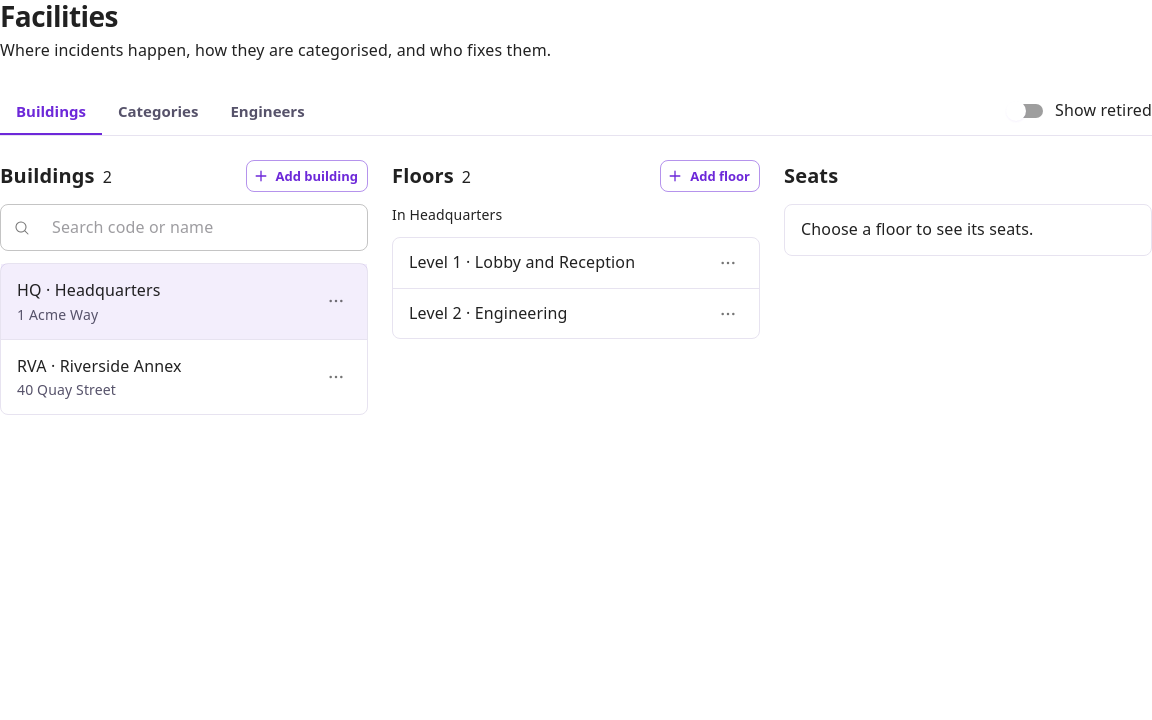
Test: FacilitiesPage › adds a floor to the selected building
Check: the text "Level 2 · Engineering" is shown, box [409,301,568,326]
Click the button "Add floor" at point(710, 176), box [660,160,760,192]
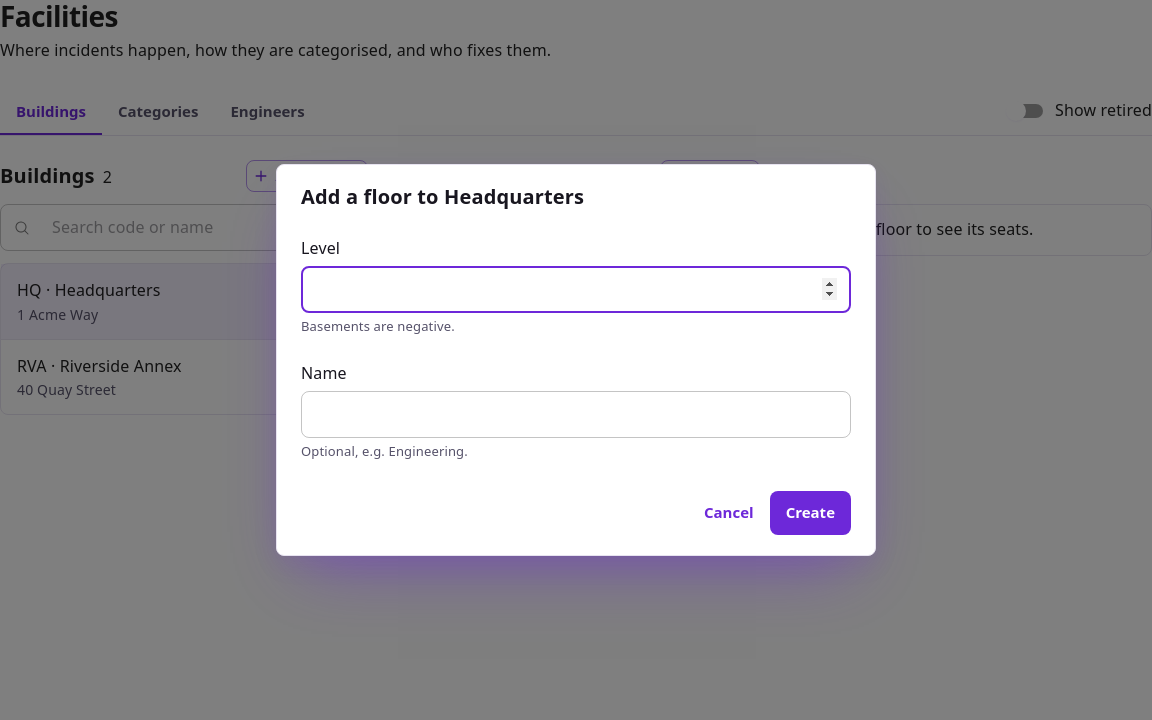
Check: the heading "Add a floor to Headquarters" is shown, box [301,183,584,210]
Click the button "Create" at point(810, 513), box [770,491,851,535]
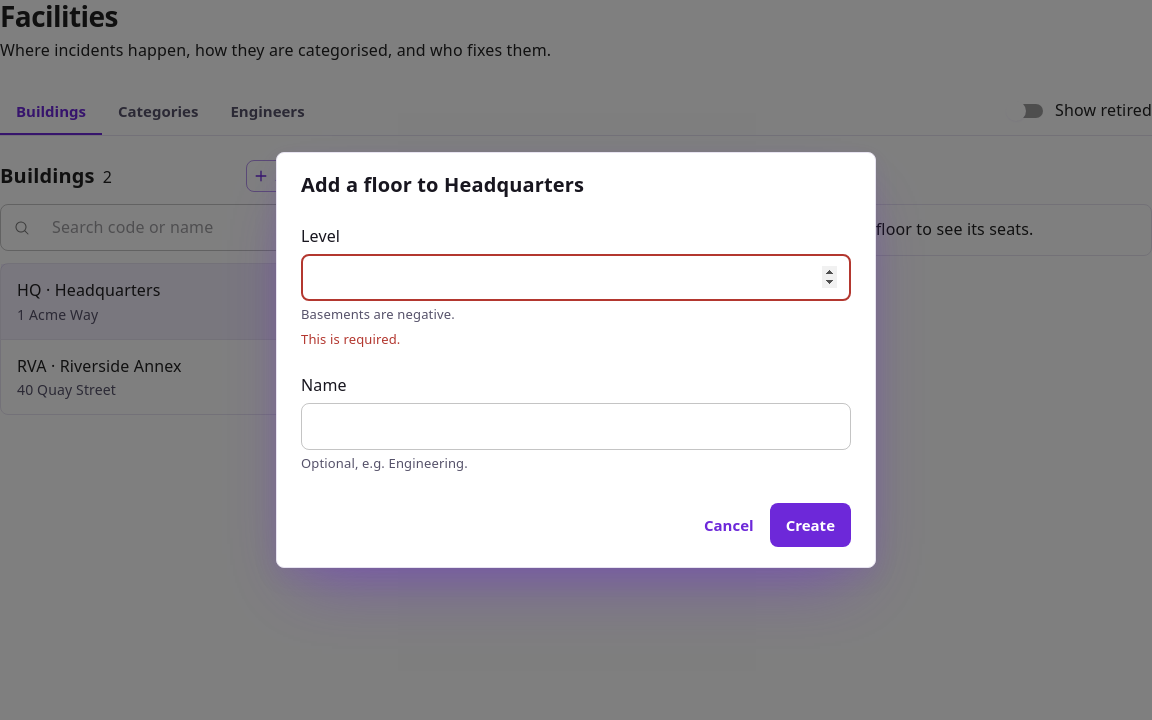
Check: the text "This is required." is shown, box [301,330,400,348]
Type "-1" into the number field labelled "Level" at point(576, 278), box [301,254,851,301]
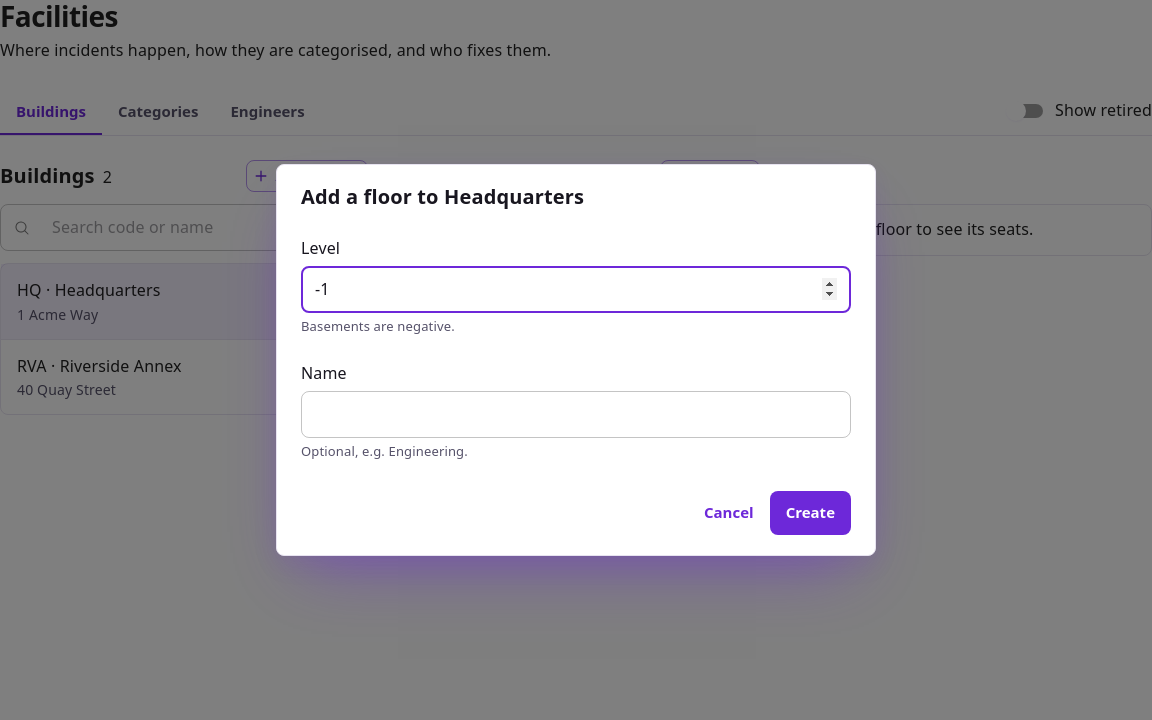
Type "Car park" into the field labelled "Name" at point(576, 414), box [301,391,851,438]
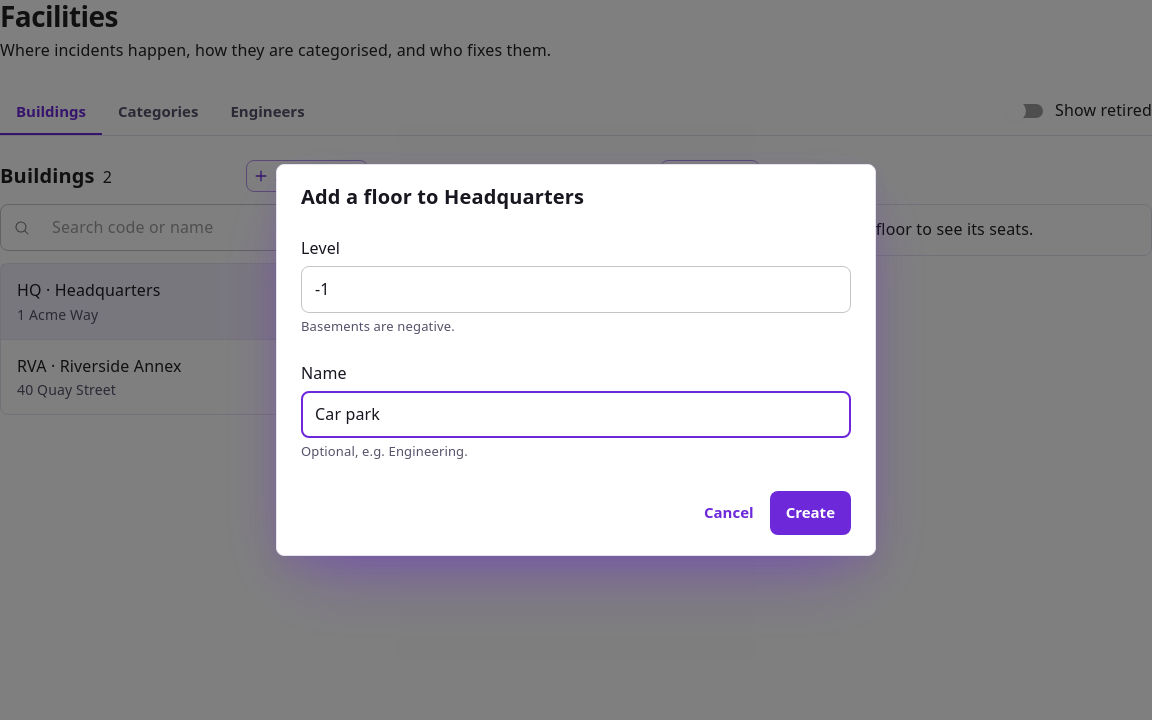
Click the button "Create" at point(810, 513), box [770,491,851,535]
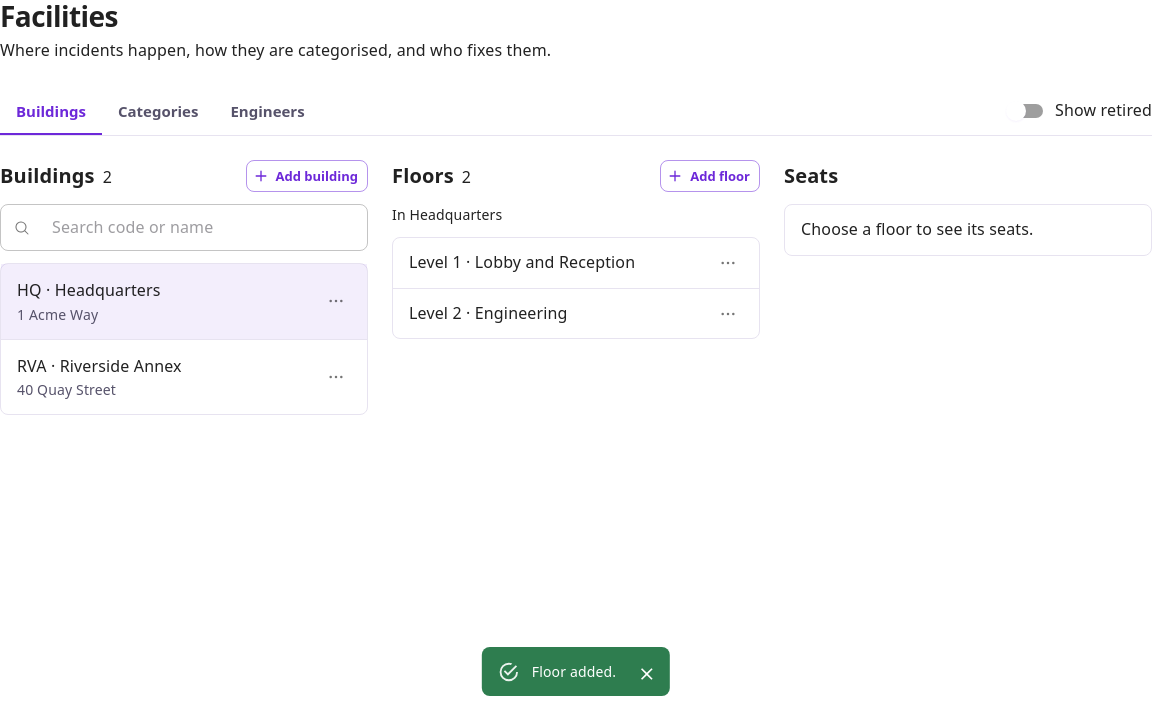
Check: the text "Floor added." is shown, box [532,662,616,681]
